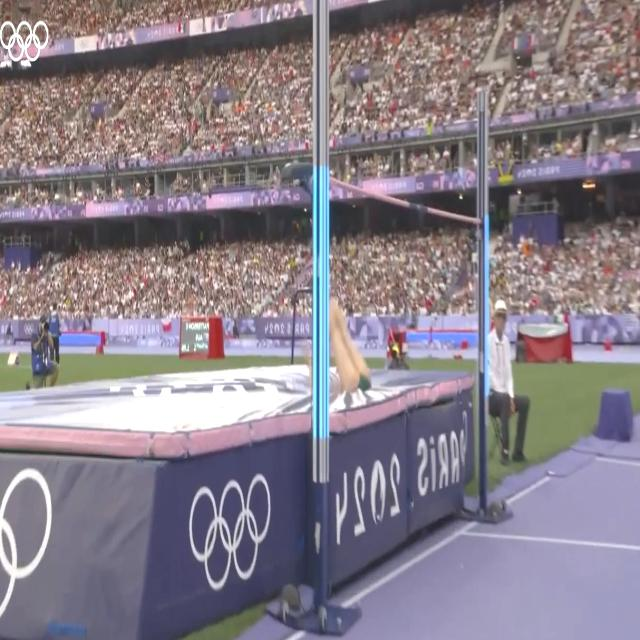land: (310, 289, 371, 394)
